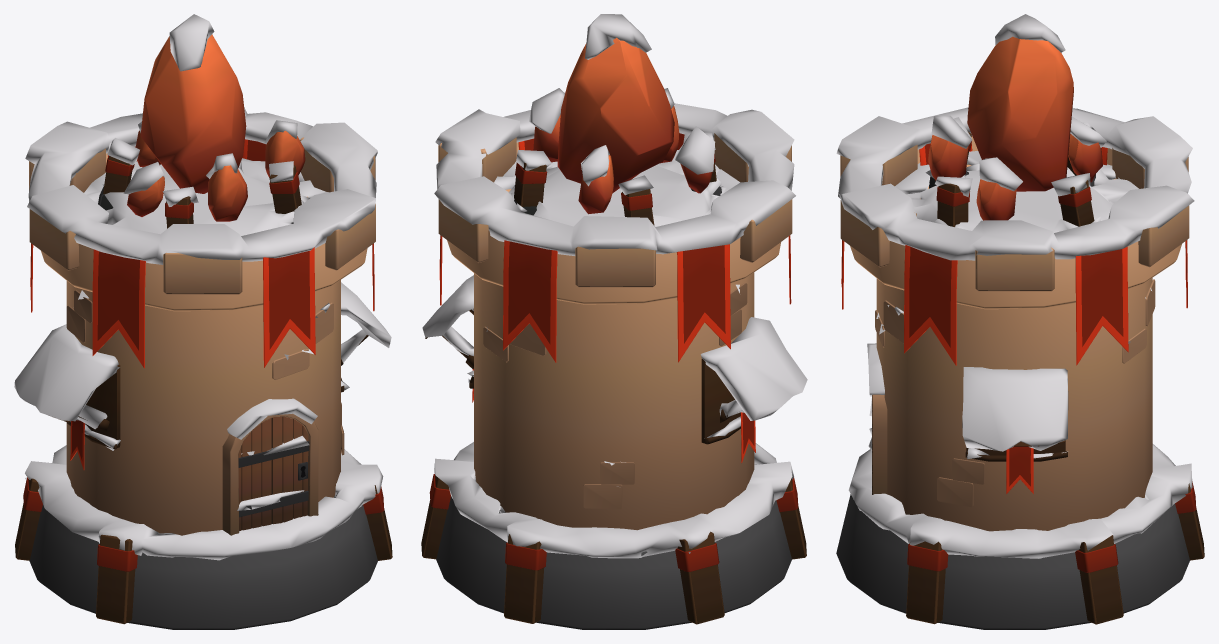
File: TowerWatchSnowy_8.fbx
The picture shows the model from 3 angles, left to right: view 1: azimuth 30°, elevation 25°; view 2: azimuth 150°, elevation 25°; view 3: azimuth 270°, elevation 25°; orthographic projection. The views are drawn at different scales.
Visible parts, largest first — view 1: TowerWatchSnowy_8, Cristal_1.002, Cristal_1.004; view 2: TowerWatchSnowy_8, Cristal_1.002, Cristal_1.004; view 3: TowerWatchSnowy_8, Cristal_1.002, Cristal_1.004.
Part boxes in pixels (x1,y1,x2,y2): TowerWatchSnowy_8: [14, 107, 392, 629]; Cristal_1.002: [127, 34, 305, 221]; Cristal_1.004: [123, 14, 297, 194]; TowerWatchSnowy_8: [421, 103, 807, 629]; Cristal_1.002: [533, 38, 713, 214]; Cristal_1.004: [529, 14, 715, 186]; TowerWatchSnowy_8: [836, 107, 1204, 629]; Cristal_1.002: [928, 36, 1102, 220]; Cristal_1.004: [931, 14, 1106, 191].
Bounding box in the file's own units: 313 × 455 × 284.
